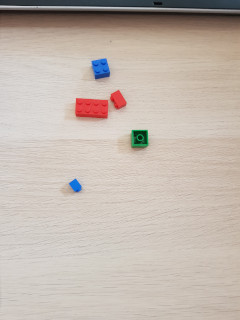1x1 blue: (68, 179, 85, 195)
1x2 red: (109, 88, 129, 111)
2x2 blue: (91, 58, 111, 78)
2x2 green: (131, 130, 149, 148)
2x4 red: (75, 97, 111, 122)
